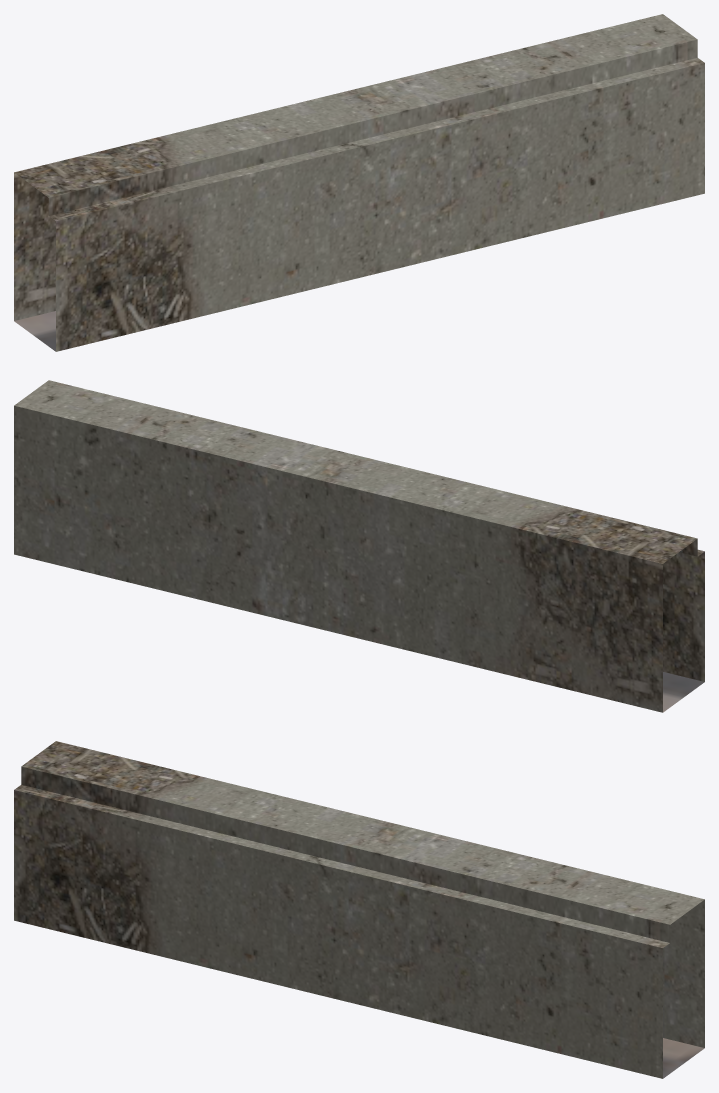
File: corridor_low_poly.fbx
The picture shows the model from 3 angles, top to bottom: view 1: azimuth 30°, elevation 25°; view 2: azimuth 150°, elevation 25°; view 3: azimuth 330°, elevation 25°; orthographic projection.
Parts seen in each view (by area): view 1: Cube.007; view 2: Cube.007; view 3: Cube.007.
Boxes of the visible parts, left/top/right/bottom form: Cube.007: left=14, top=14, right=704, bottom=351; Cube.007: left=14, top=380, right=704, bottom=712; Cube.007: left=14, top=741, right=704, bottom=1078.
Size of the model in its own units: 3594 by 788 by 403.
